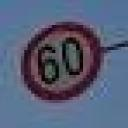speed_limit_60: (18, 19, 100, 100)
